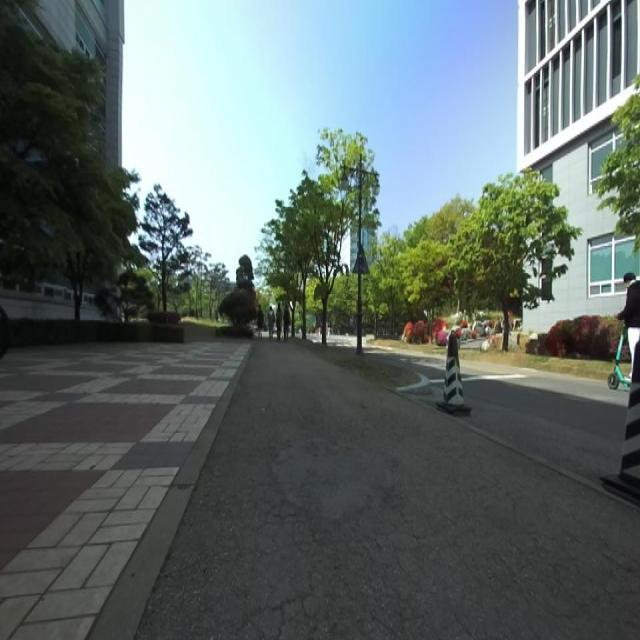sidewalk: (137, 340, 640, 639)
